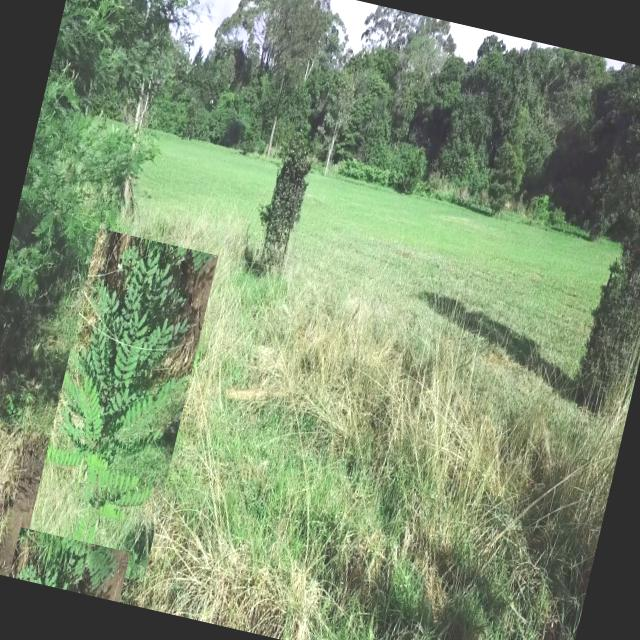Mysore-Thorn-Weed: (23, 228, 218, 582), (8, 527, 130, 602)
